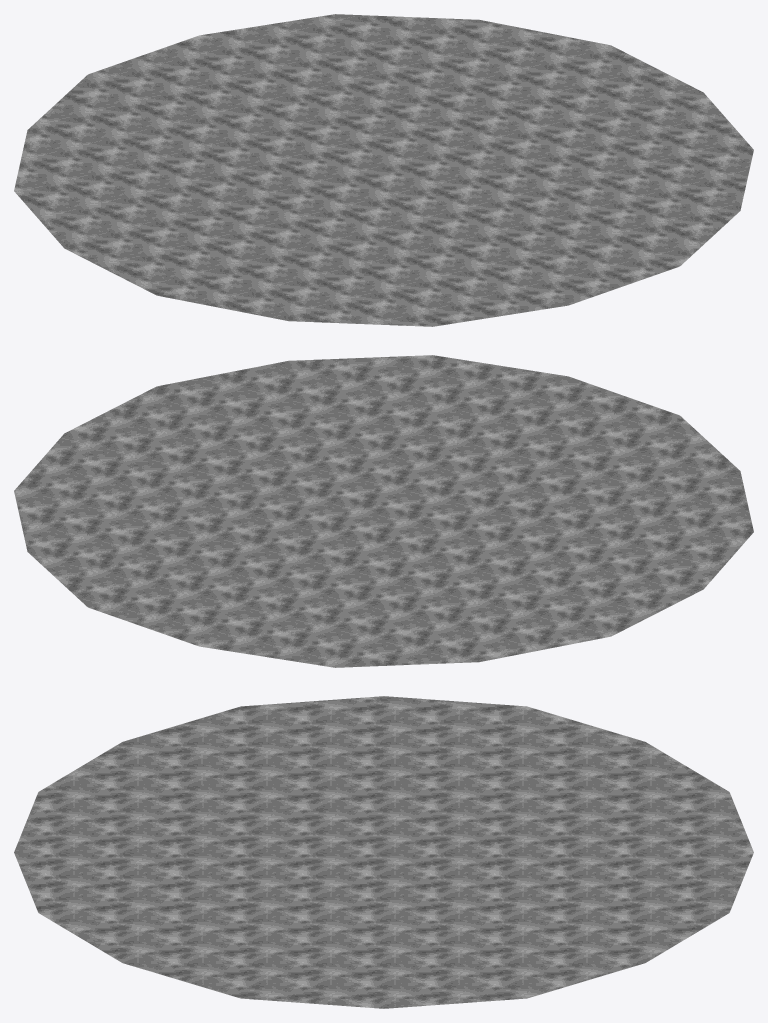
File: seaindirect.dae
3 views of the same model, one above another, from view 1: azimuth 30°, elevation 25°; view 2: azimuth 150°, elevation 25°; view 3: azimuth 270°, elevation 25° (orthographic).
Parts seen in each view (by area): view 1: m0; view 2: m0; view 3: m0.
Boxes of the visible parts, box(x1,y1,x2,y2) form: m0: box(14, 14, 753, 326); m0: box(14, 355, 753, 667); m0: box(14, 696, 753, 1008).
Bounding box in the file's own units: 135377 × 0 × 135377.
1 material, 1 textured.
